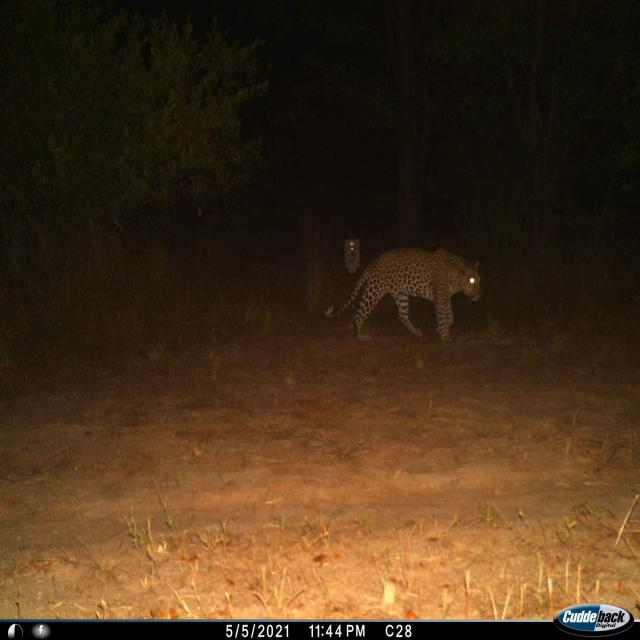Leopard: (324, 236, 486, 358)
